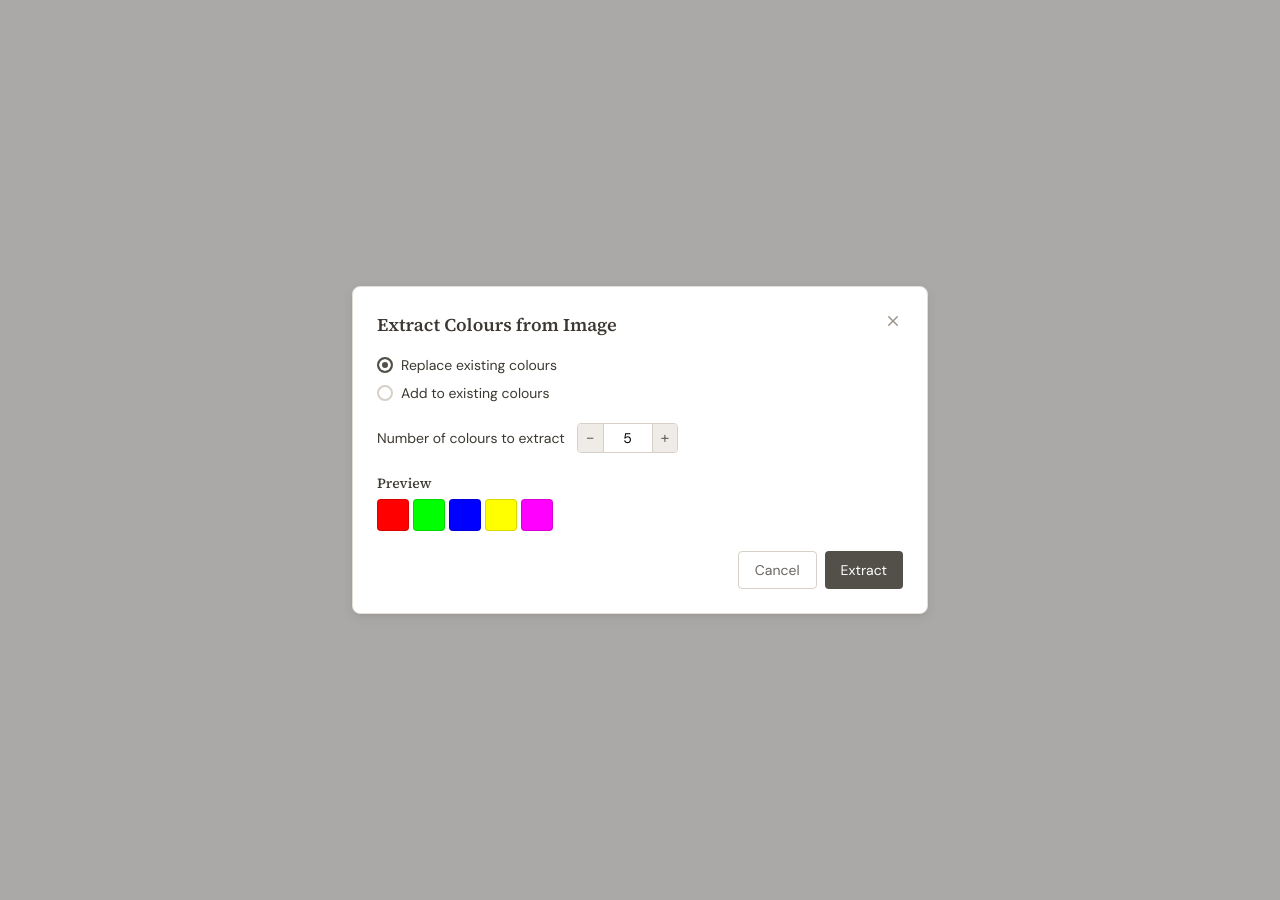
Test: ExtractColoursModal › decrements count when minus button is clicked
The width and height of the screenshot is (1280, 900).
Expected: the number field named "Colour count" holds "5", [604,424,652,452]
Click the button named "Decrease count".
click(591, 438)  # box [578,424,604,452]
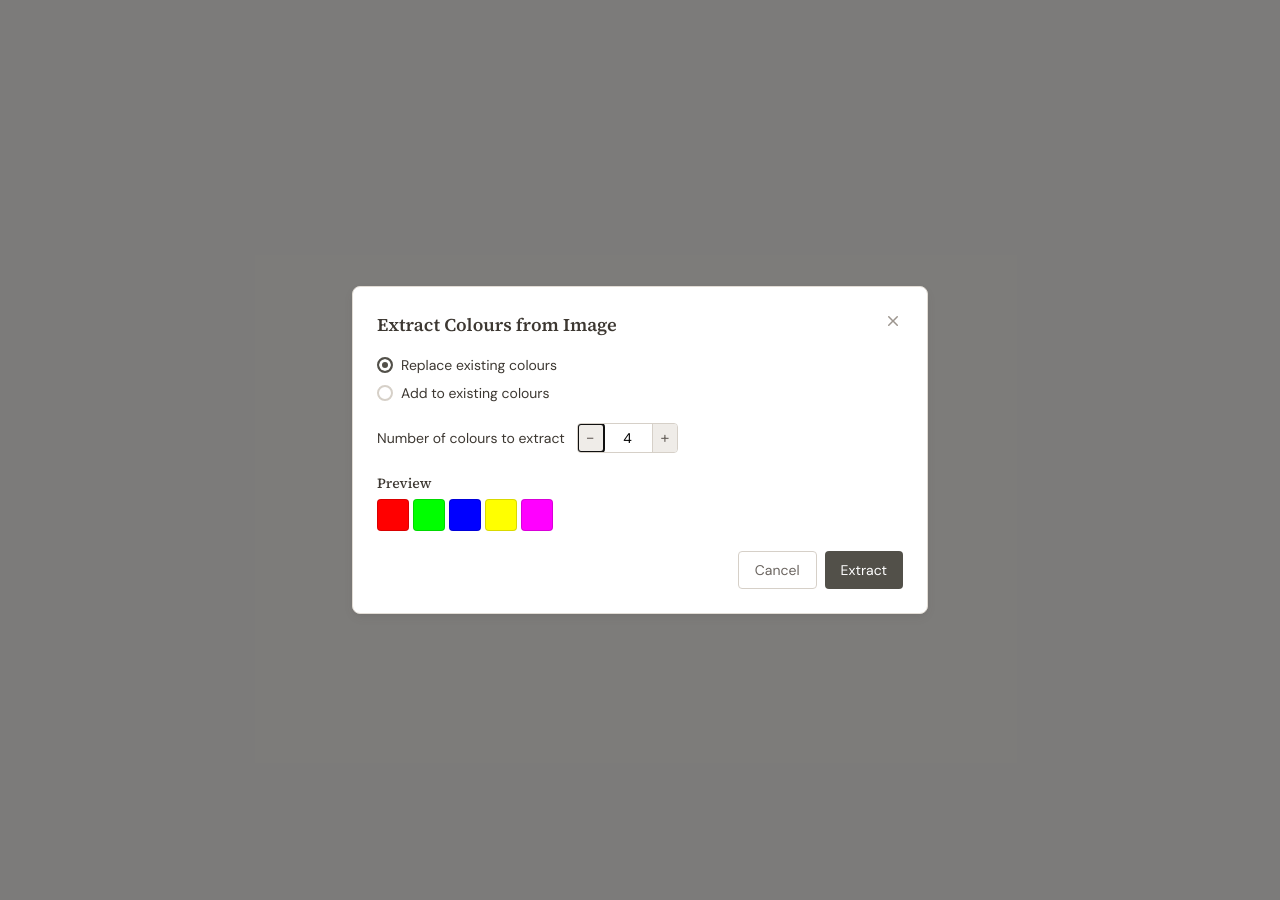
Result: the number field named "Colour count" holds "4" at [604,424,652,452]
